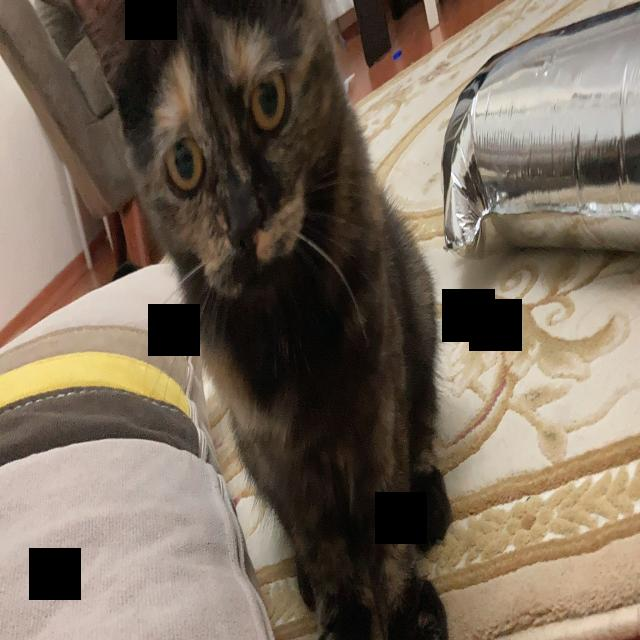authorized: (70, 0, 454, 638)
